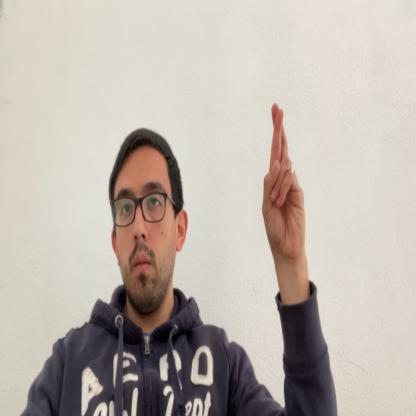R: (261, 102, 306, 274)
